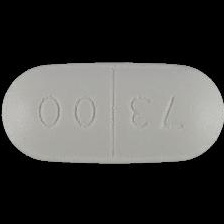53808-0329: (0, 0, 224, 224)
